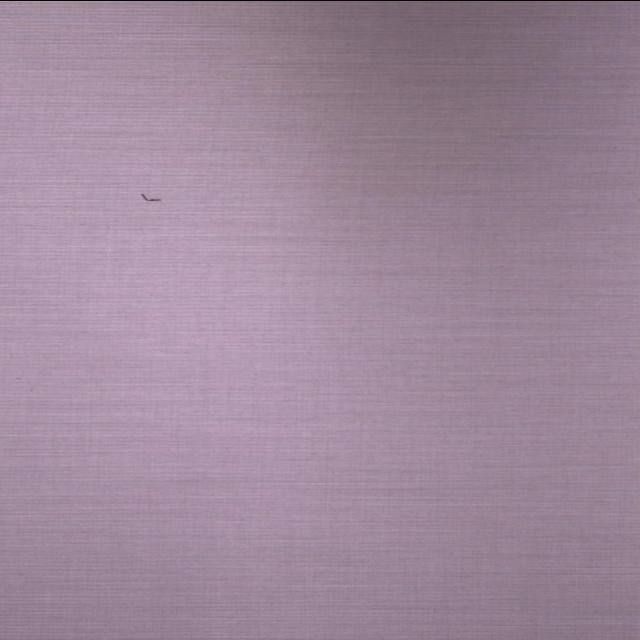dirty: (138, 192, 164, 201)
